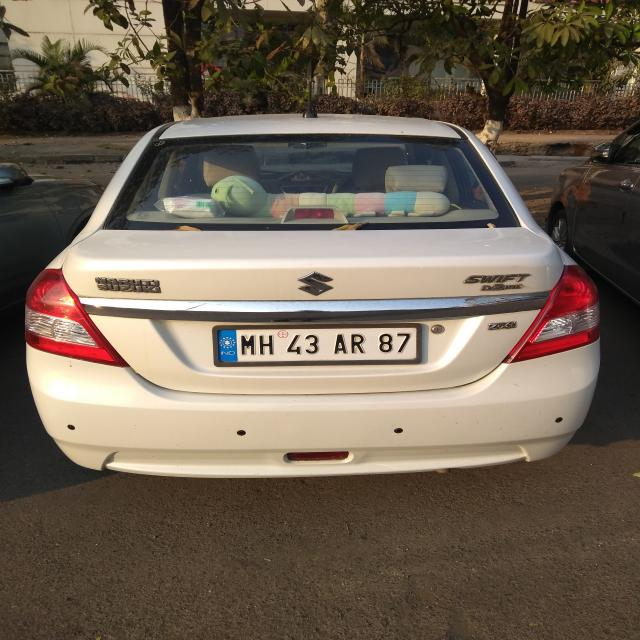Number-Plate: (214, 327, 423, 364)
